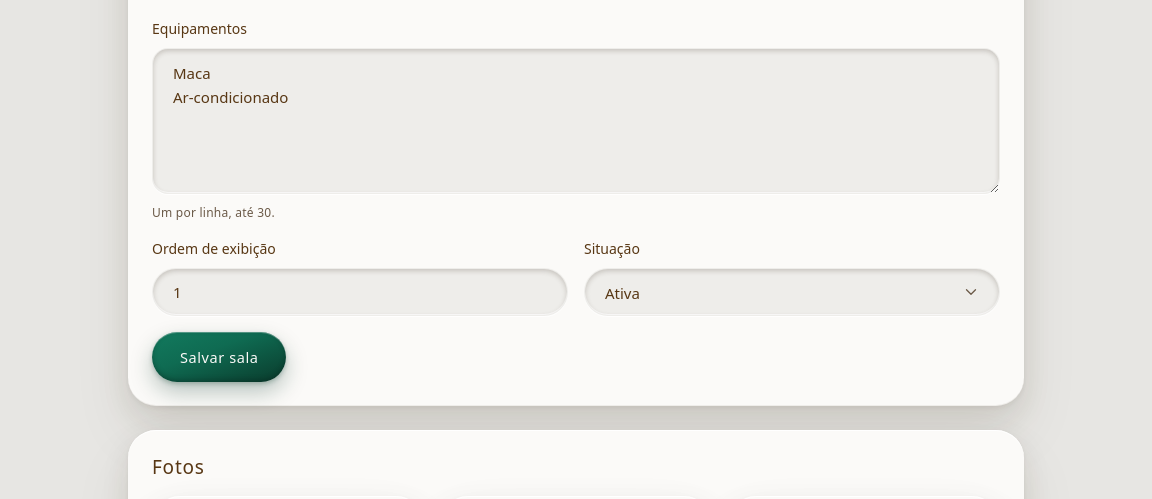
Scenario: RoomEditPage edit (GES-103) › puts a server 422 on its field
(page scrolled)
Click the button "Salvar sala". click: (219, 357)
box: [152,332,286,382]
(page scrolled)
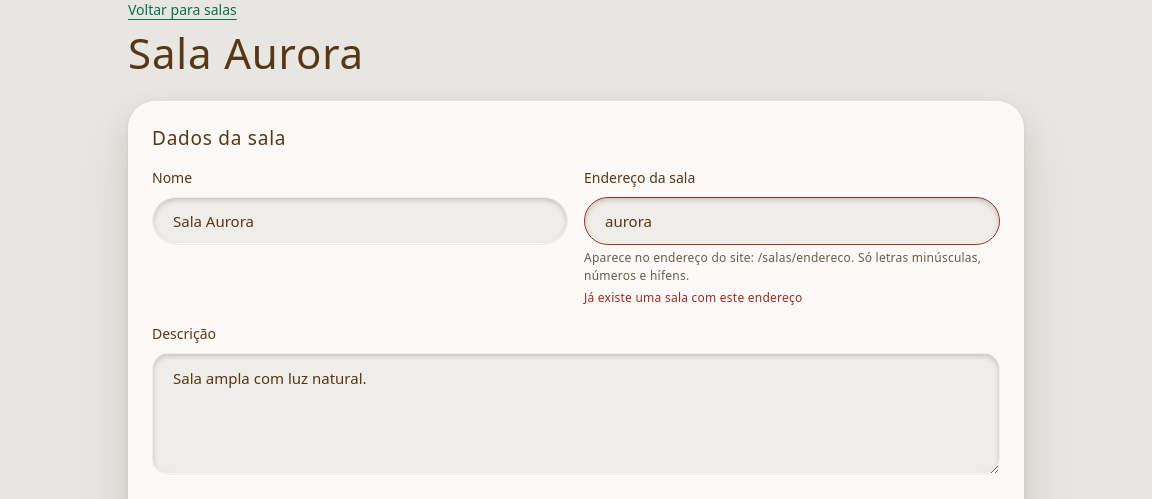
Expected: the text "Já existe uma sala com este endereço" is shown, [584,289,803,306]
